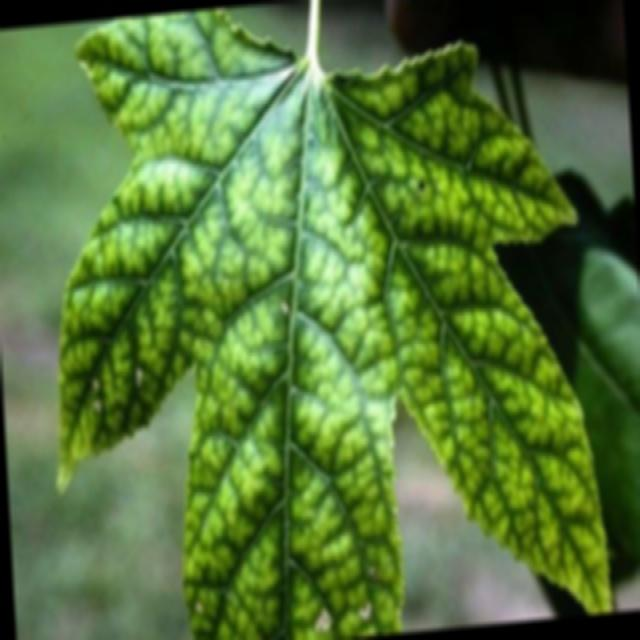Chlorosis: (55, 4, 606, 634)
